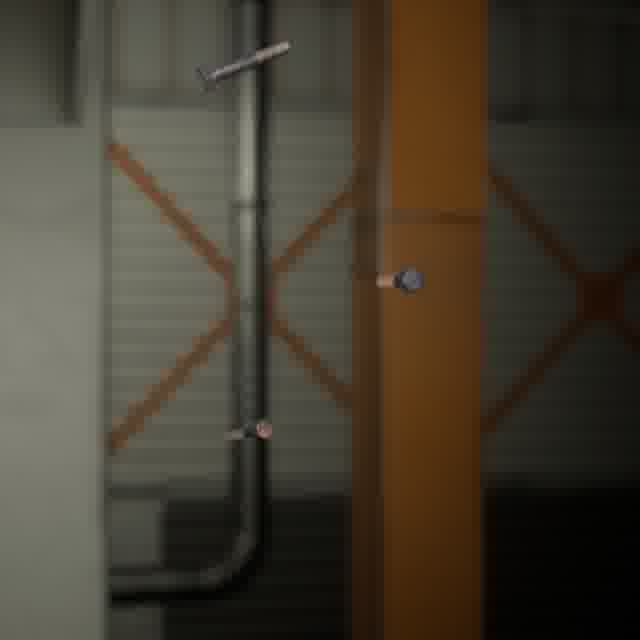bolt: (191, 36, 294, 96), (372, 262, 429, 297), (216, 414, 278, 444)
